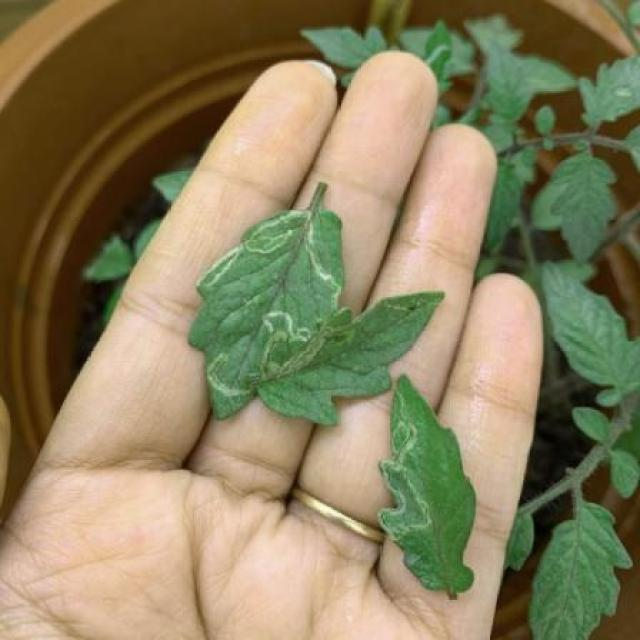Healthy: (535, 260, 640, 407), (524, 501, 632, 639)
Leaf Miner: (187, 202, 346, 422), (376, 377, 479, 594)
